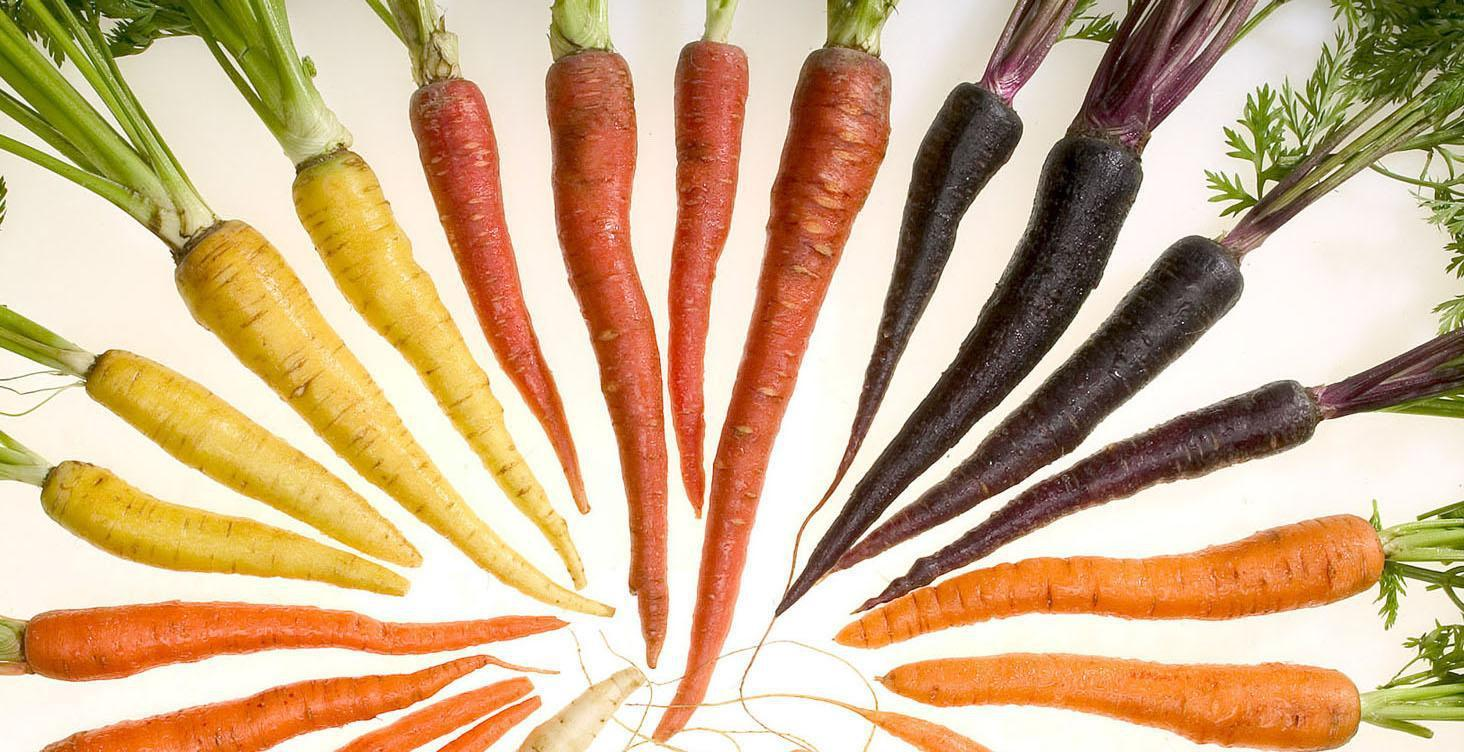carrot: (856, 522, 1402, 652), (9, 662, 522, 752), (833, 673, 1368, 752), (0, 588, 566, 659)
